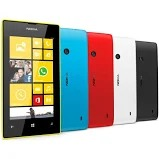nokia: (1, 17, 62, 140)
